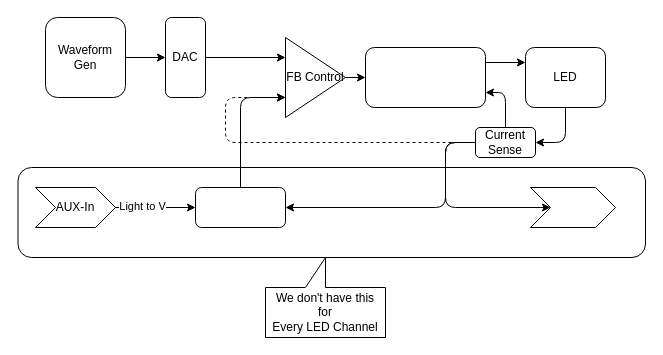
Some shapes in this 663 by 355 pixel diagram are drawn without their labels. The shapes that lost their labels are listed below. From the top down, each one's box as (x1, y1, x2, y2) in pixels, then its label:
(364, 46, 486, 108): VtoI
(194, 186, 286, 228): Switch
(530, 186, 616, 228): Ref_Out
